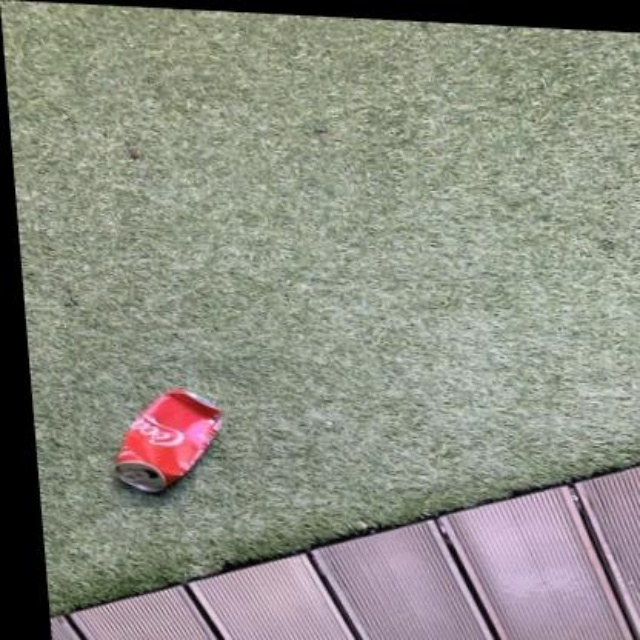trash: (115, 389, 220, 491)
